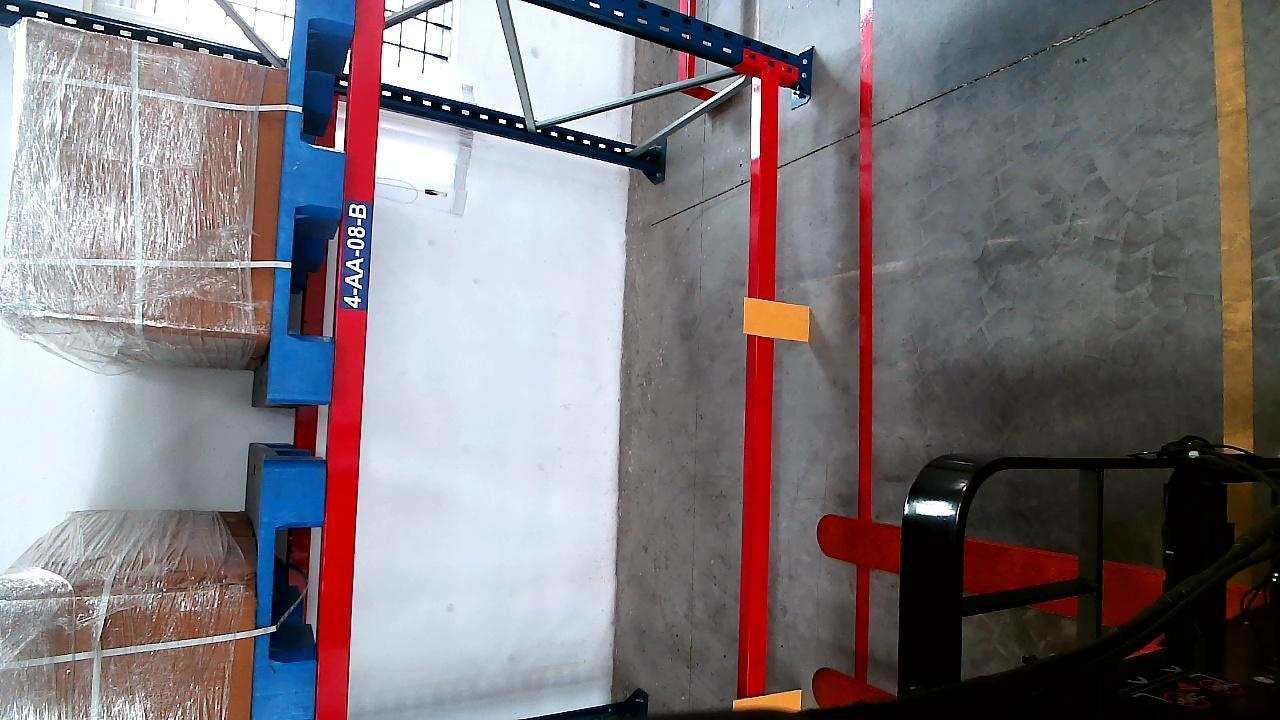h_rack: (321, 0, 383, 720), (735, 76, 777, 695)
orange_strip: (745, 298, 813, 339), (739, 687, 812, 712)
small_pallet: (271, 0, 357, 398), (253, 466, 324, 717)
yellow_line: (1215, 0, 1258, 457)
